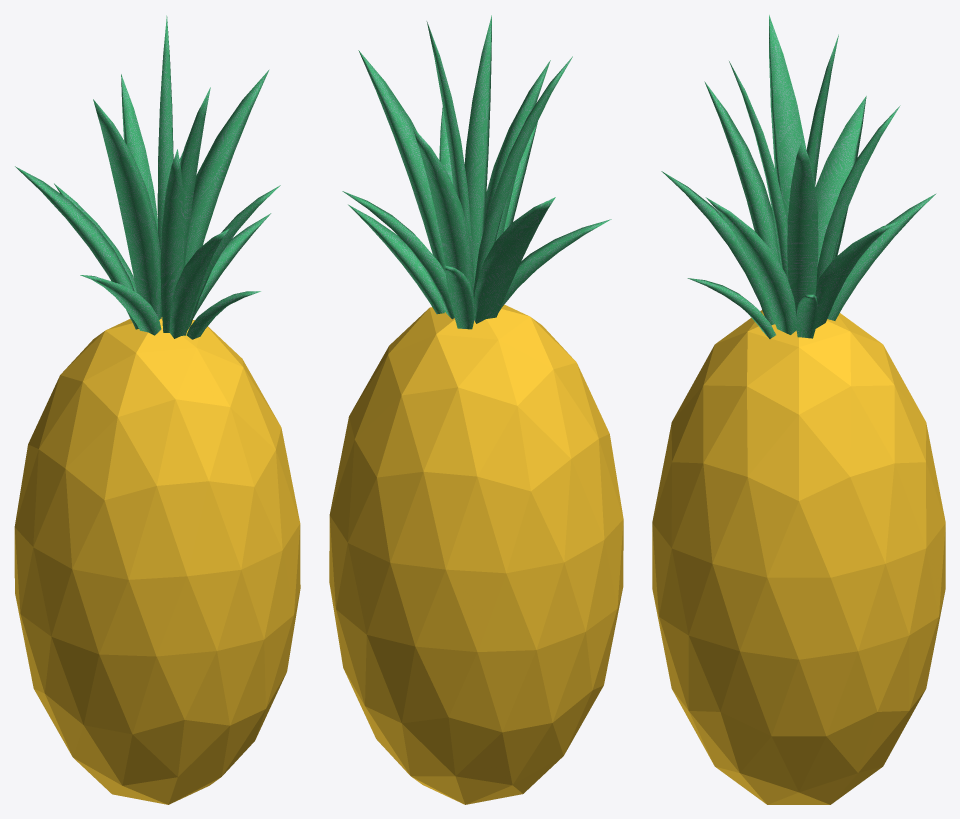
Rendered from pineapple.dae.
3 views of the same model, side by side, from view 1: azimuth 30°, elevation 25°; view 2: azimuth 150°, elevation 25°; view 3: azimuth 270°, elevation 25° (orthographic). The views are drawn at different scales.
Parts seen in each view (by area): view 1: GeodesicSphere02, Plant_Leaf (×13); view 2: GeodesicSphere02, Plant_Leaf (×12); view 3: GeodesicSphere02, Plant_Leaf (×13).
Boxes of the visible parts, x1,y1,x2,y2 form: GeodesicSphere02: [14, 317, 300, 804]; Plant_Leaf (×13): [15, 15, 280, 339]; GeodesicSphere02: [329, 304, 623, 804]; Plant_Leaf (×12): [342, 15, 611, 329]; GeodesicSphere02: [652, 310, 945, 804]; Plant_Leaf (×13): [661, 15, 936, 338].
Bounding box in the file's own units: 120 × 120 × 353.
